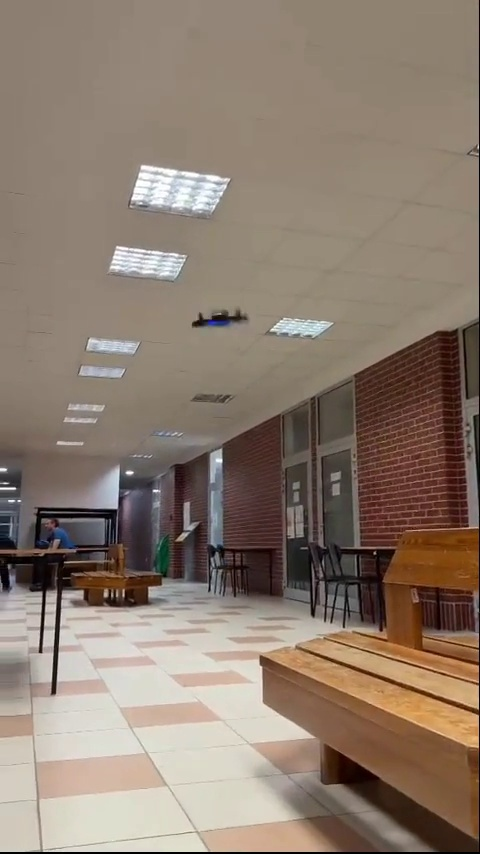drone: (185, 306, 252, 330)
no vest: (33, 512, 74, 559)
